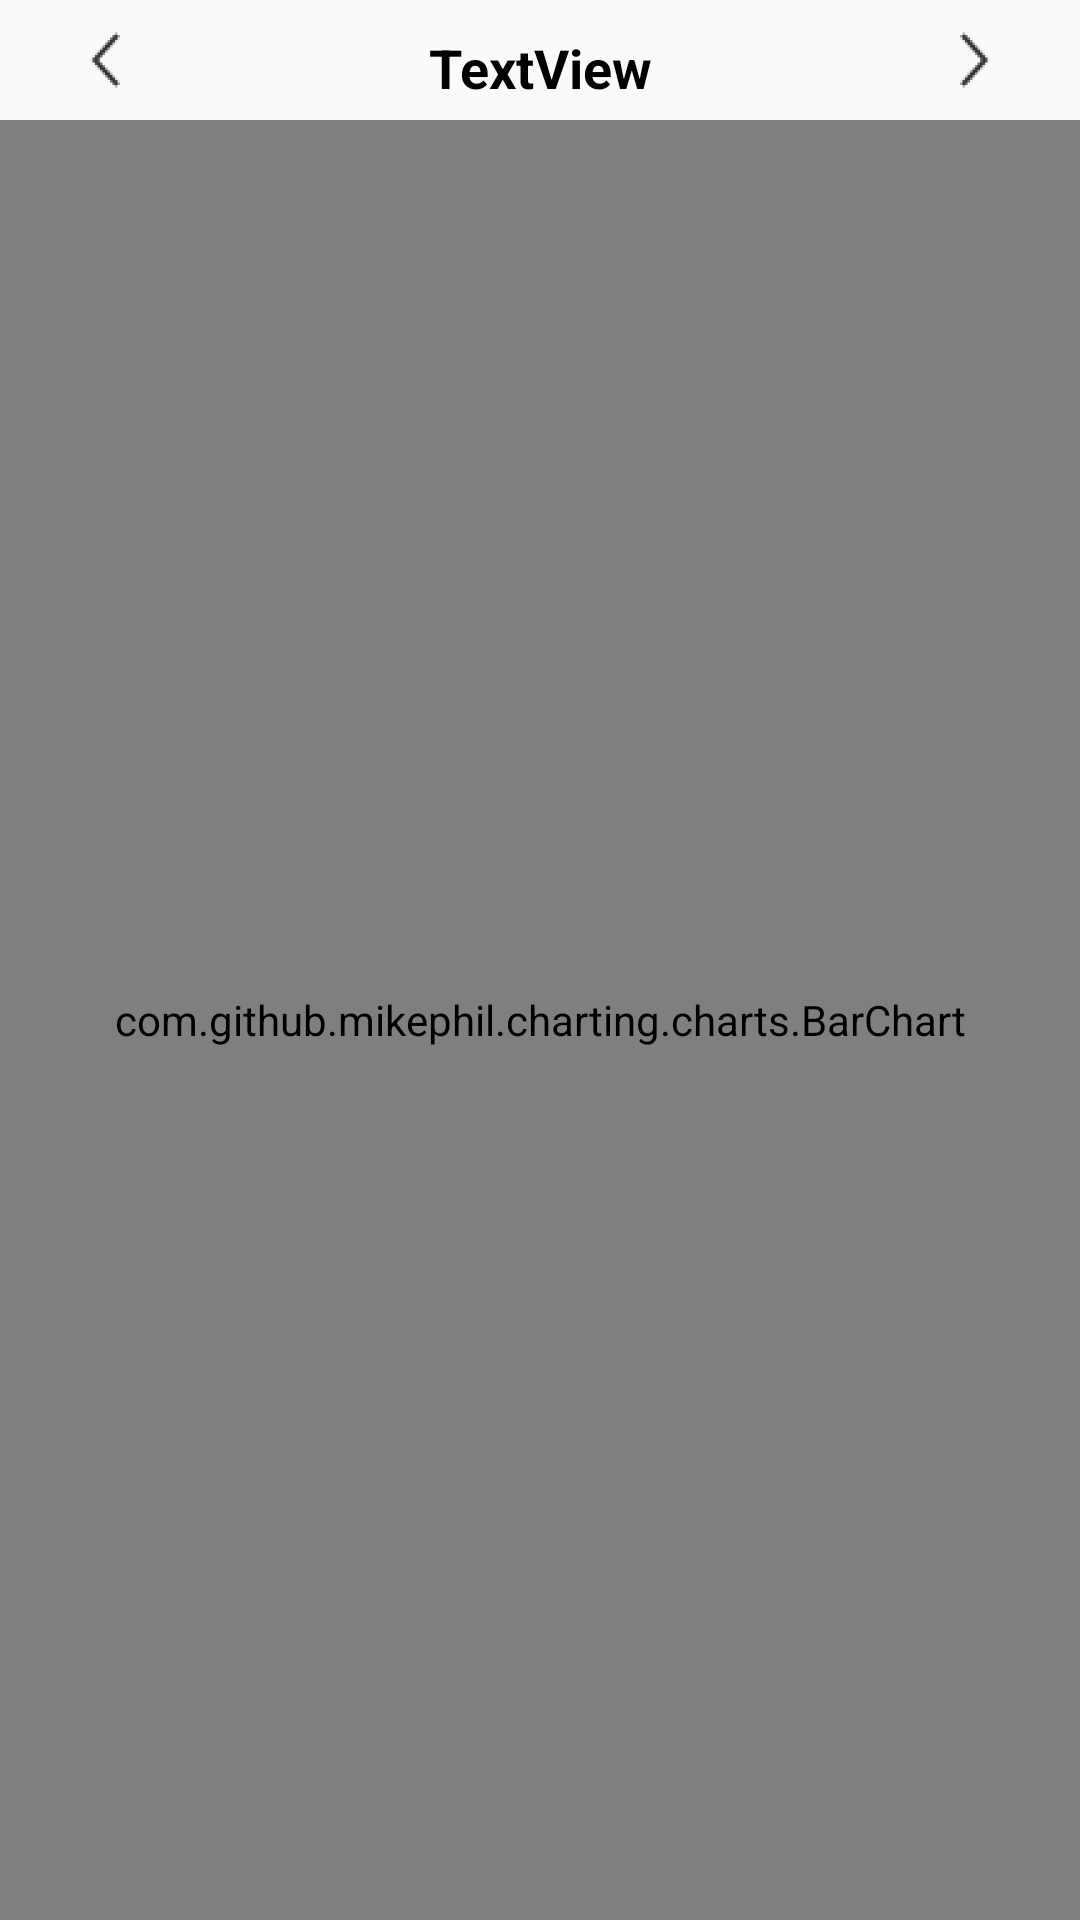

Named icons in this screenshot (1080x1920) and their bounding boxes, box(x1, y1, x2, y2):
nexttotomorrow: box(960, 32, 988, 88)
